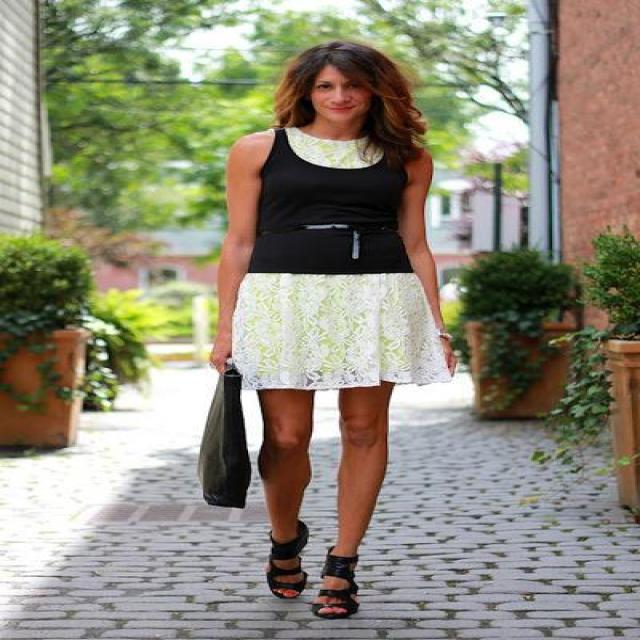bag: (198, 360, 268, 508)
dress: (228, 128, 470, 399)
shirt: (246, 141, 413, 276)
shoe: (267, 524, 376, 618)
